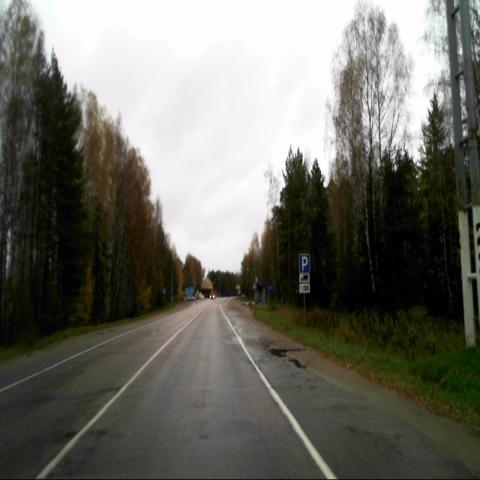6_4: (299, 252, 310, 272)
